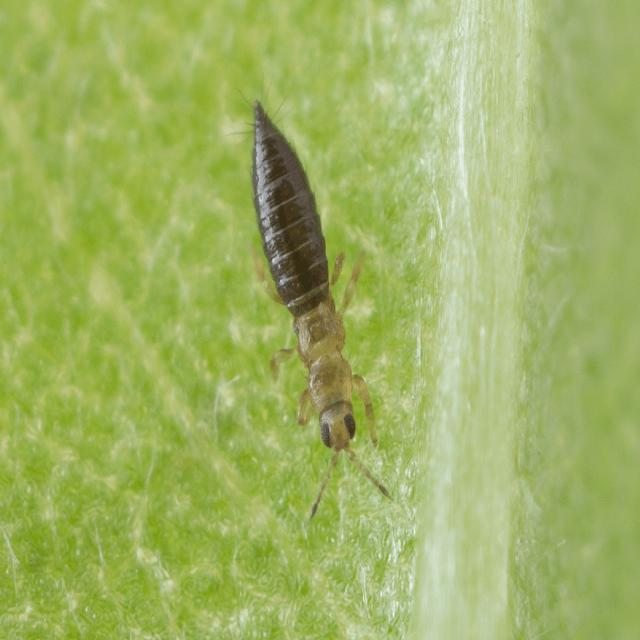Thrip-Adult-: (227, 73, 399, 503)
